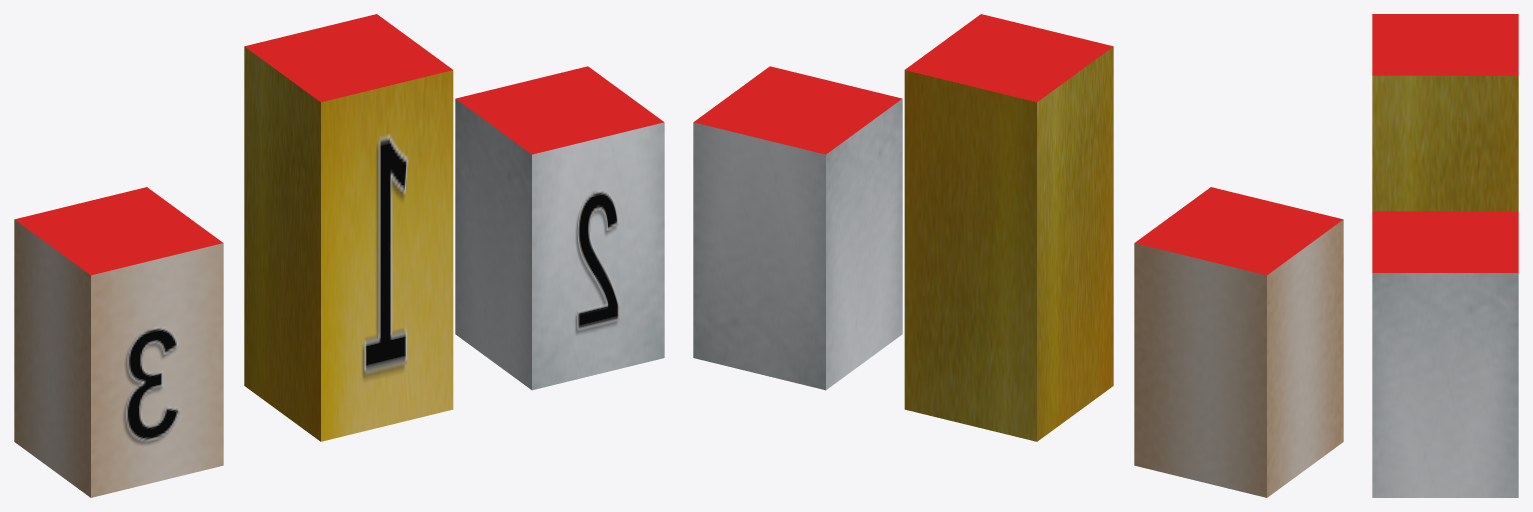
Rendered from Podium.obj.
3 renders of one model, left to right at view 1: azimuth 30°, elevation 25°; view 2: azimuth 150°, elevation 25°; view 3: azimuth 270°, elevation 25°, orthographic. The views are drawn at different scales.
Visible parts, largest first — view 1: pCube1, pasted__pCube1 group, pasted__pasted__pCube1 pasted__group group1; view 2: pCube1, pasted__pCube1 group, pasted__pasted__pCube1 pasted__group group1; view 3: pasted__pCube1 group, pCube1.
Part boxes in pixels (bbox=[...]): pCube1: bbox=[244, 14, 453, 441]; pasted__pCube1 group: bbox=[455, 66, 664, 390]; pasted__pasted__pCube1 pasted__group group1: bbox=[14, 187, 223, 497]; pCube1: bbox=[904, 14, 1113, 441]; pasted__pCube1 group: bbox=[693, 66, 902, 390]; pasted__pasted__pCube1 pasted__group group1: bbox=[1134, 187, 1343, 497]; pasted__pCube1 group: bbox=[1372, 211, 1518, 497]; pCube1: bbox=[1372, 14, 1518, 211].
Bounding box in the file's own units: 7.56 × 4.27 × 1.75.
